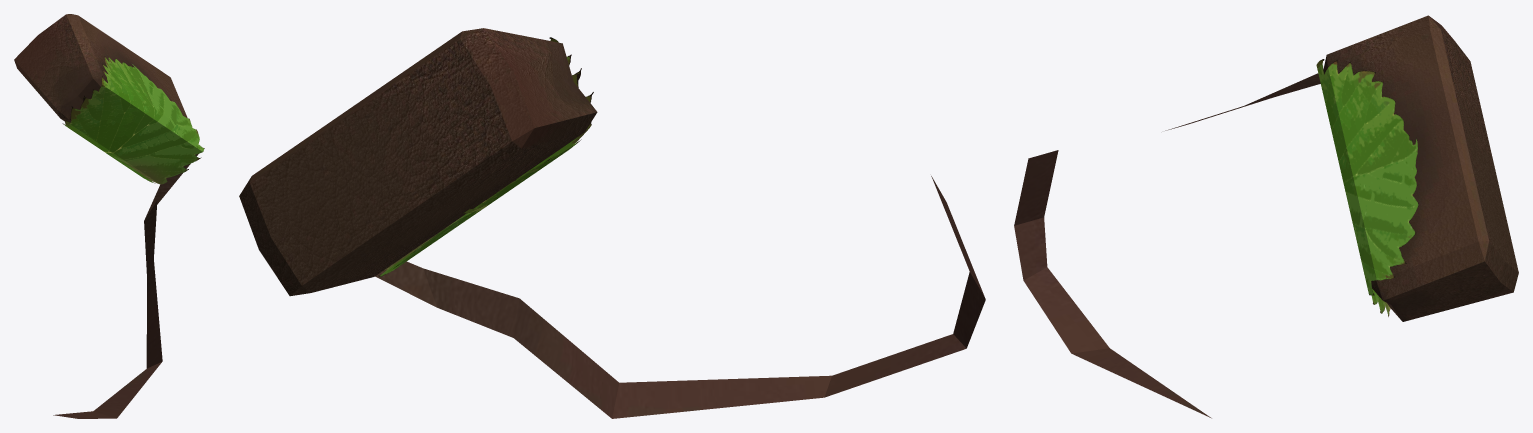
The model's file is Bag.fbx.
3 views of the same model, side by side, from view 1: azimuth 30°, elevation 25°; view 2: azimuth 150°, elevation 25°; view 3: azimuth 270°, elevation 25° (orthographic). The views are drawn at different scales.
Parts seen in each view (by area): view 1: Cube; view 2: Cube; view 3: Cube.
Boxes of the visible parts, <box> form: Cube: <box>14,14,204,418</box>; Cube: <box>239,28,985,418</box>; Cube: <box>1014,15,1518,418</box>.
Size of the model in its own units: 34.72 by 32.85 by 37.31.
